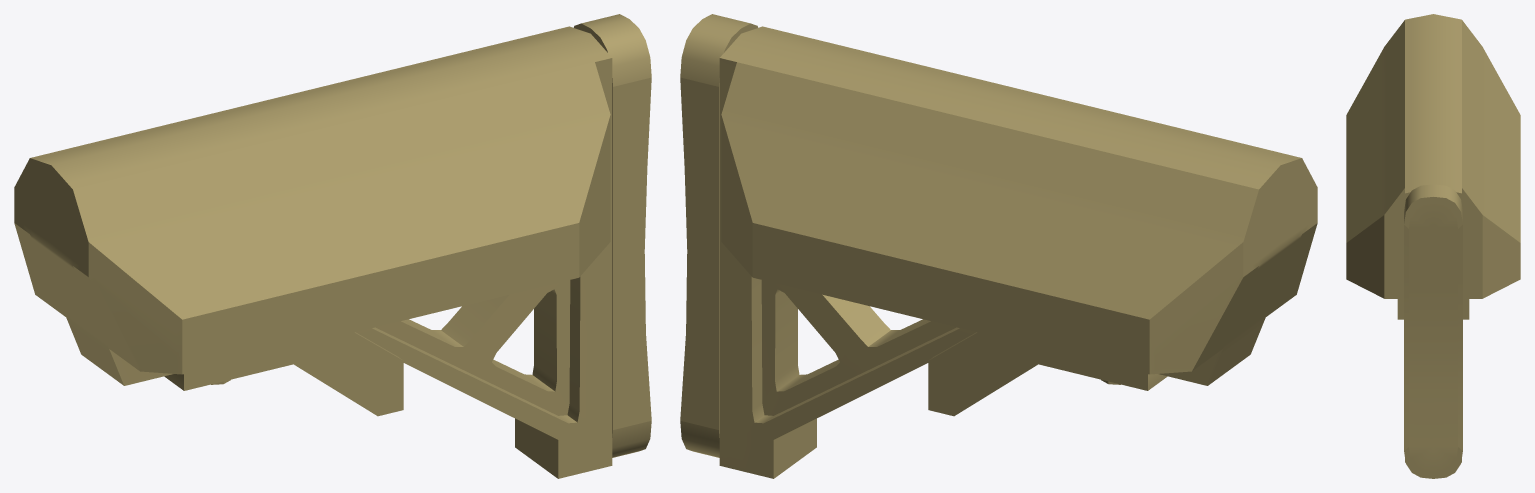
The model's file is AR-15_Stock_00test.fbx.
3 renders of one model, left to right at view 1: azimuth 30°, elevation 25°; view 2: azimuth 150°, elevation 25°; view 3: azimuth 270°, elevation 25°, orthographic. The views are drawn at different scales.
Parts seen in each view (by area): view 1: stock, stock_buttPlate, stock_adjustLever; view 2: stock, stock_buttPlate, stock_adjustLever; view 3: stock, stock_buttPlate, stock_adjustLever.
Part boxes in pixels (x1,y1,x2,y2): stock: (14,26,612,478); stock_buttPlate: (573,14,651,457); stock_adjustLever: (164,332,403,416); stock: (719,26,1317,478); stock_buttPlate: (680,14,758,457); stock_adjustLever: (928,332,1167,416); stock: (1346,14,1520,462); stock_buttPlate: (1404,184,1462,478); stock_adjustLever: (1397,299,1469,319).
Size of the model in its own units: 21.6 by 15.26 by 8.55.
